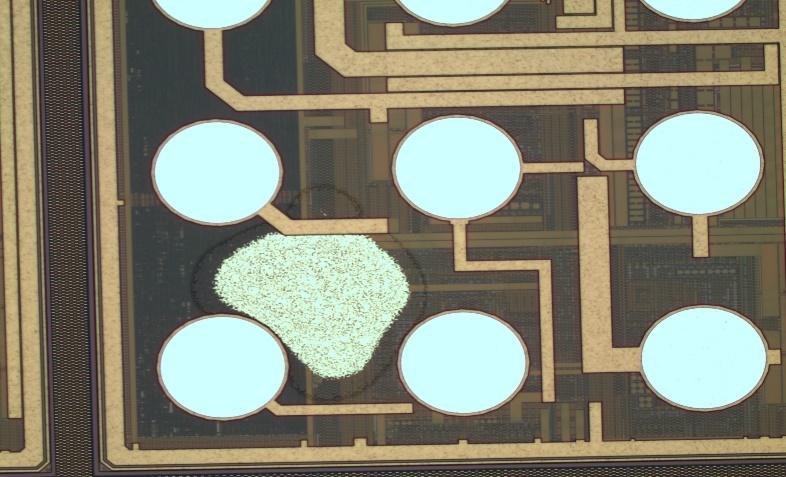BLOCK ETCH: (184, 185, 431, 404)
